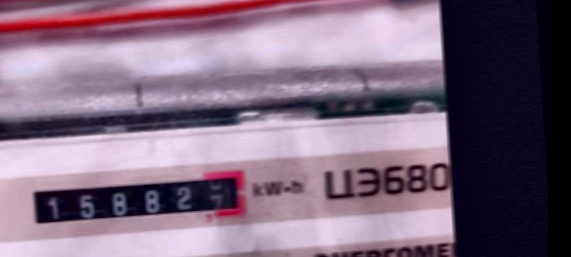1: (45, 193, 61, 218)
2: (175, 182, 191, 207)
5: (77, 189, 95, 216)
7: (208, 188, 224, 208)
8: (110, 188, 128, 215), (143, 185, 160, 211)
screen: (18, 160, 255, 237)
